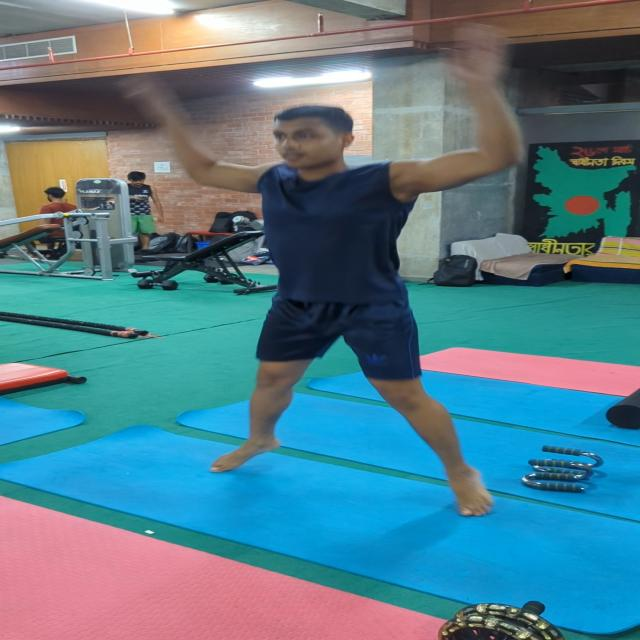Normal_JumpingJacks: (87, 8, 620, 528)
